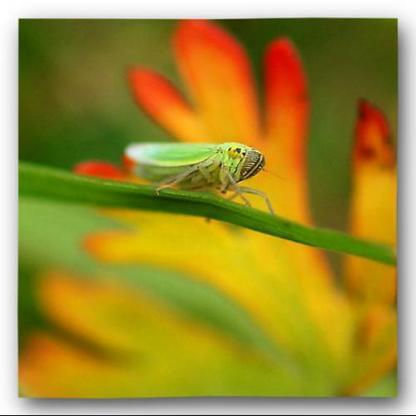green-leafhopper: (126, 134, 274, 218)
